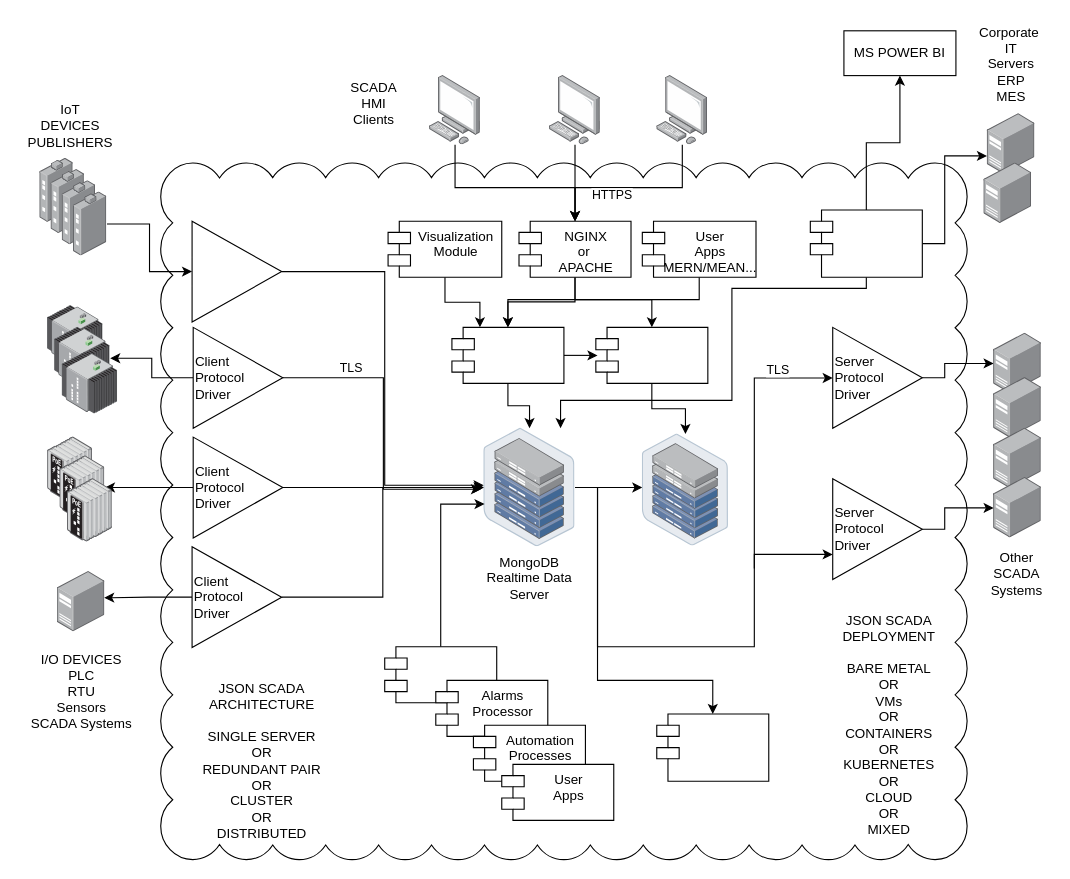
The diagram is 1070 pixels wide and 879 high, and some of its shapes have lost their labels. Here are the shapes that lost their labels. From the top down, the box of each, then its label:
(809, 209, 922, 277): IT Systems Integrations
(191, 220, 282, 322): MQTT BROKER
(451, 326, 564, 383): NodeJS Express
(595, 326, 708, 383): Grafana
(642, 433, 728, 545): PostgreSQL TimescaleDB HIstorian
(384, 646, 497, 703): Calculations
(656, 713, 769, 781): SPARK Connector ML/Big Data
